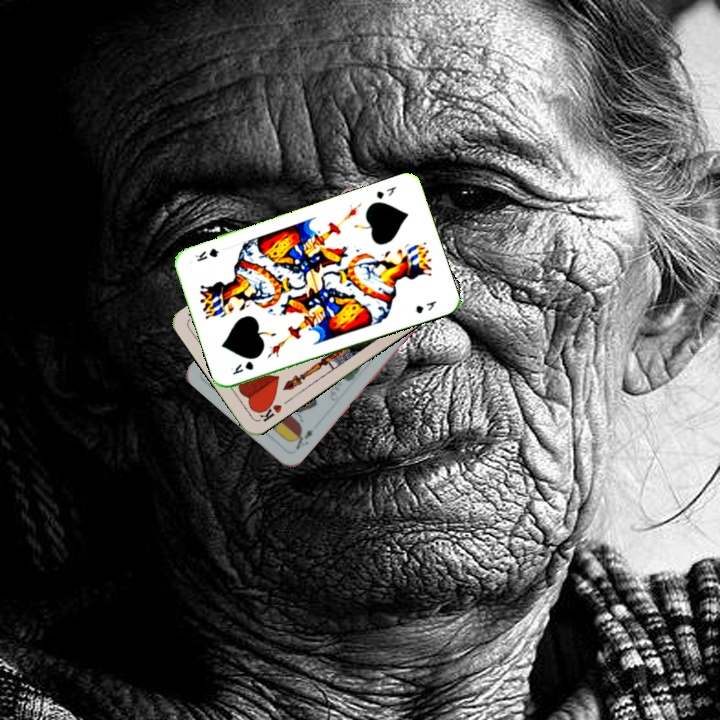EA: (291, 425, 316, 452)
GK: (227, 357, 256, 378), (372, 182, 399, 202)
HK: (253, 397, 285, 424)
